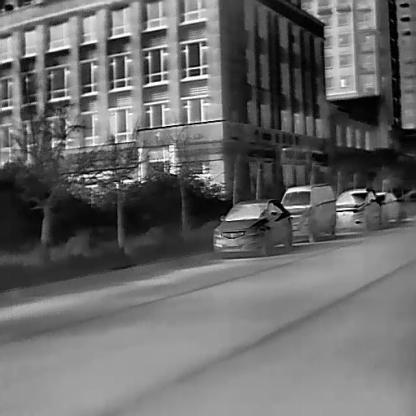car: (212, 198, 293, 256), (280, 181, 336, 242), (335, 185, 379, 235), (374, 192, 398, 228), (398, 188, 415, 224)
